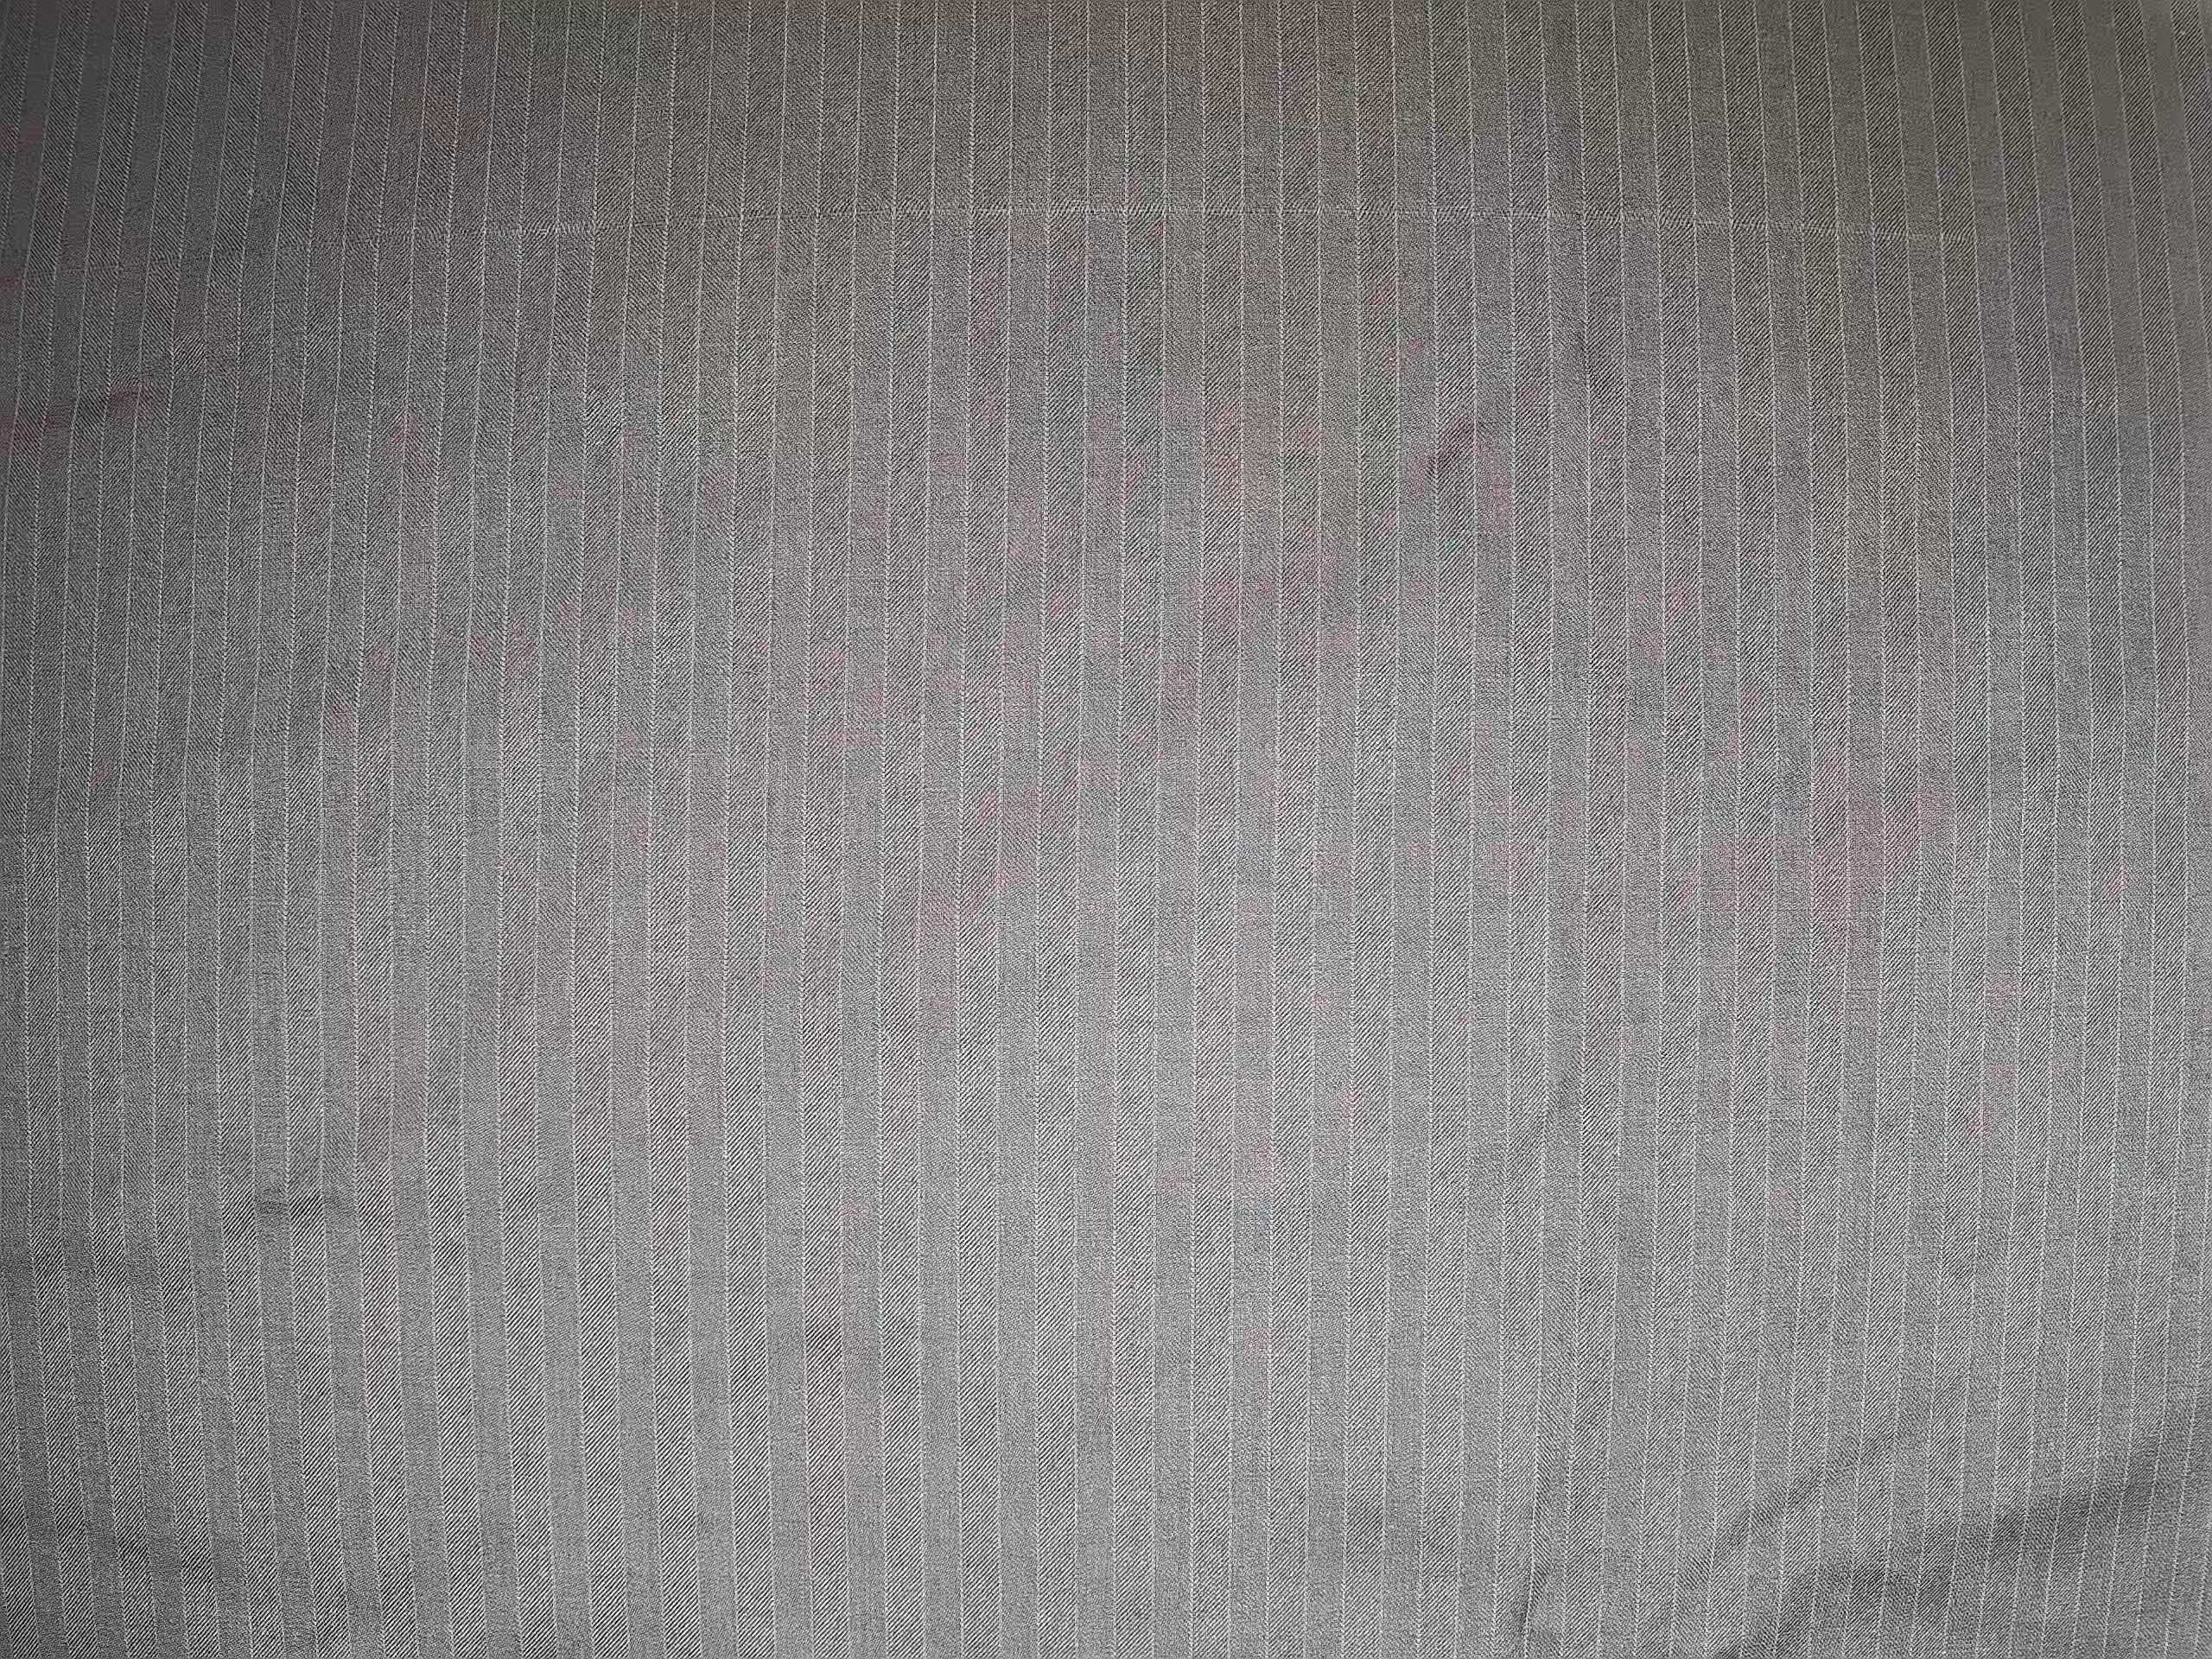thin-spinning: (132, 197, 2067, 272)
